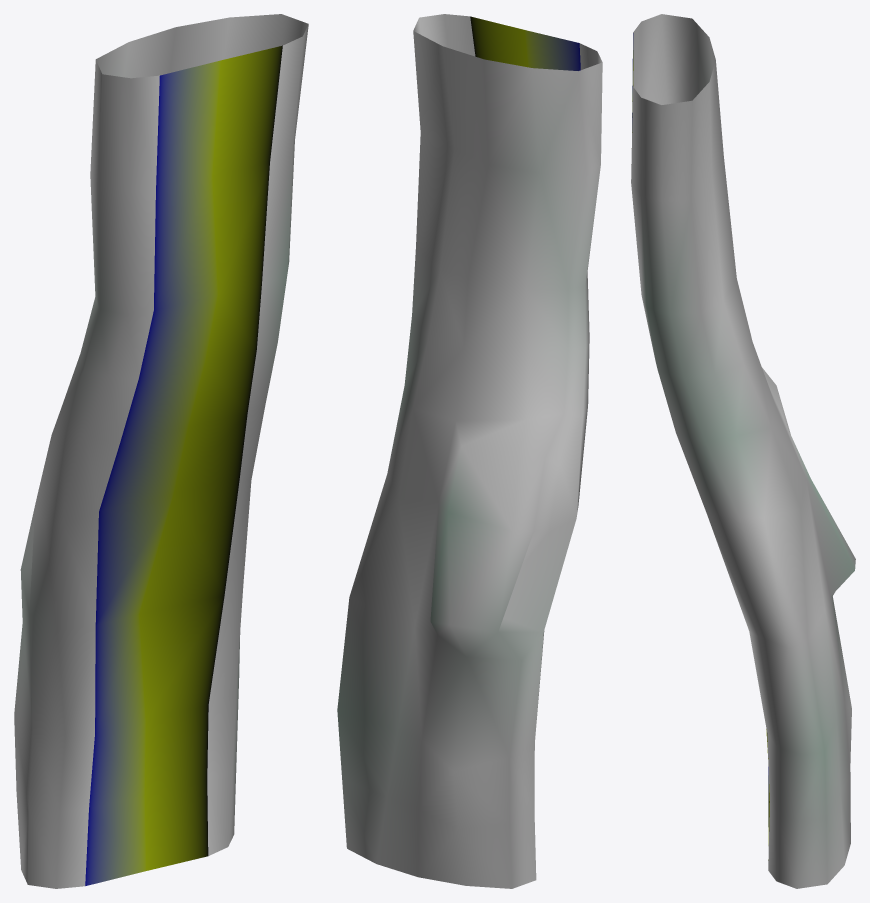
File: Volcano_BridgeRampStraightA.glb
3 renders of one model, left to right at view 1: azimuth 30°, elevation 25°; view 2: azimuth 150°, elevation 25°; view 3: azimuth 270°, elevation 25°, orthographic. The views are drawn at different scales.
Parts seen in each view (by area): view 1: MeshNode_1, MeshNode_0; view 2: MeshNode_0, MeshNode_1; view 3: MeshNode_0.
Boxes of the visible parts, x1,y1,x2,y2 form: MeshNode_1: [85, 45, 282, 885]; MeshNode_0: [14, 14, 308, 888]; MeshNode_0: [337, 14, 602, 888]; MeshNode_1: [470, 16, 580, 70]; MeshNode_0: [631, 14, 855, 888].
Size of the model in its own units: 35.42 by 128 by 33.27.
